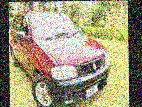car: (9, 9, 112, 107)
